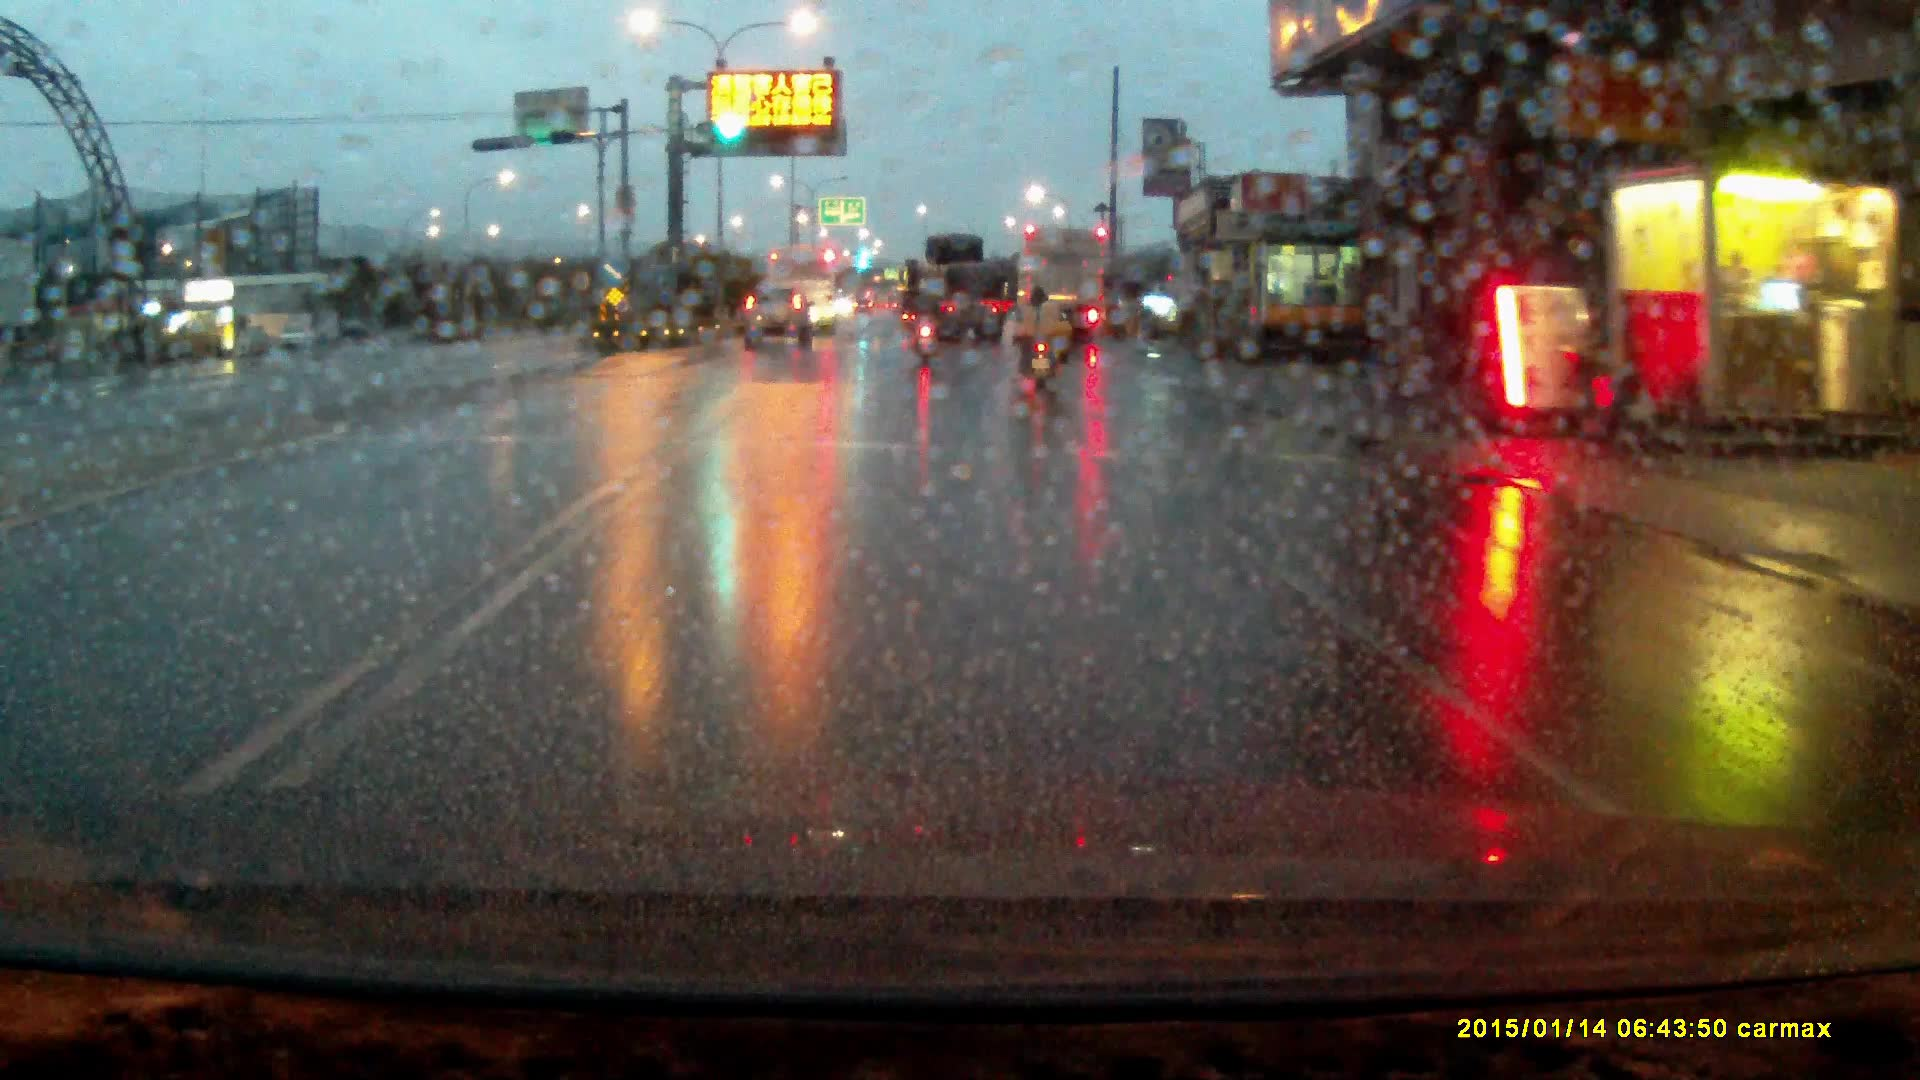rider: (1018, 287, 1062, 399), (906, 281, 940, 366)
vehicle: (1019, 226, 1110, 343), (911, 235, 1006, 347), (764, 246, 837, 336), (742, 284, 813, 349)
